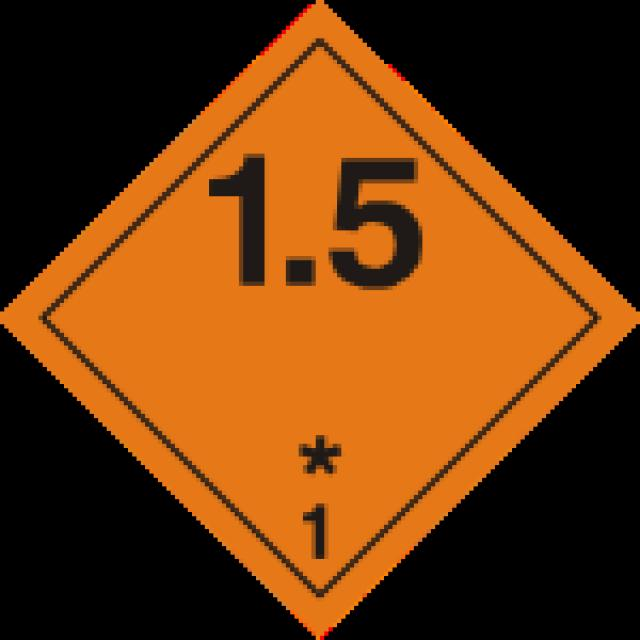Division 1-5: (4, 4, 640, 640)
